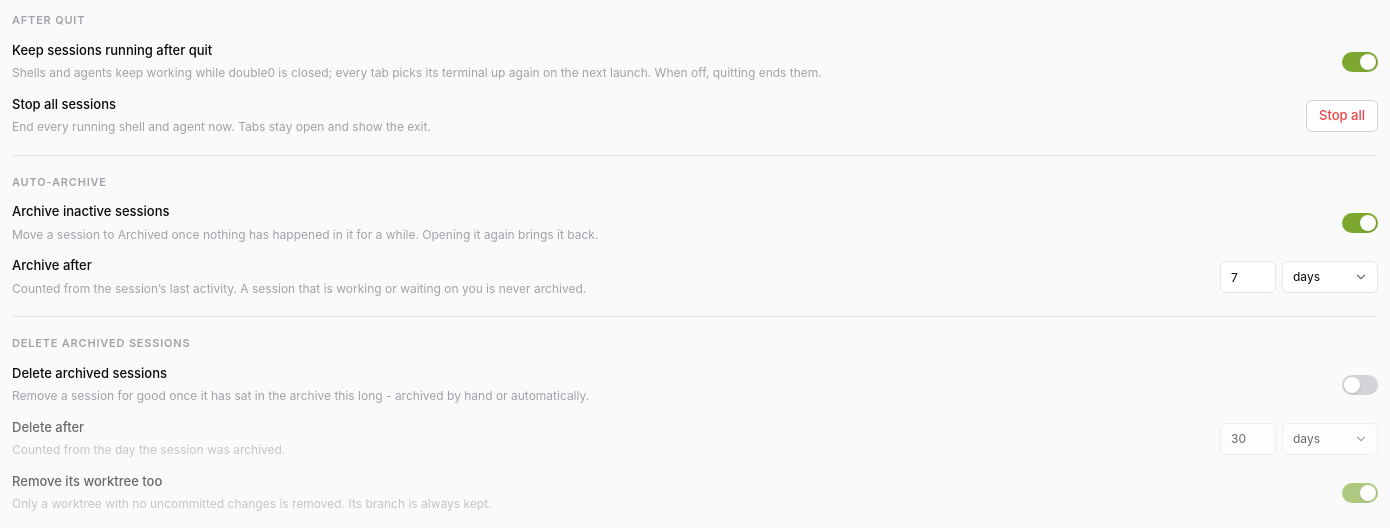
Scenario: SessionsSettingsSection › after quit (a private plan) › keeps sessions running by default and turns the choice off on a click
This screenshot has width=1390, height=528.
Click the switch named "Keep sessions running after quit" at (1360, 62), box 1342,52 -> 1378,72
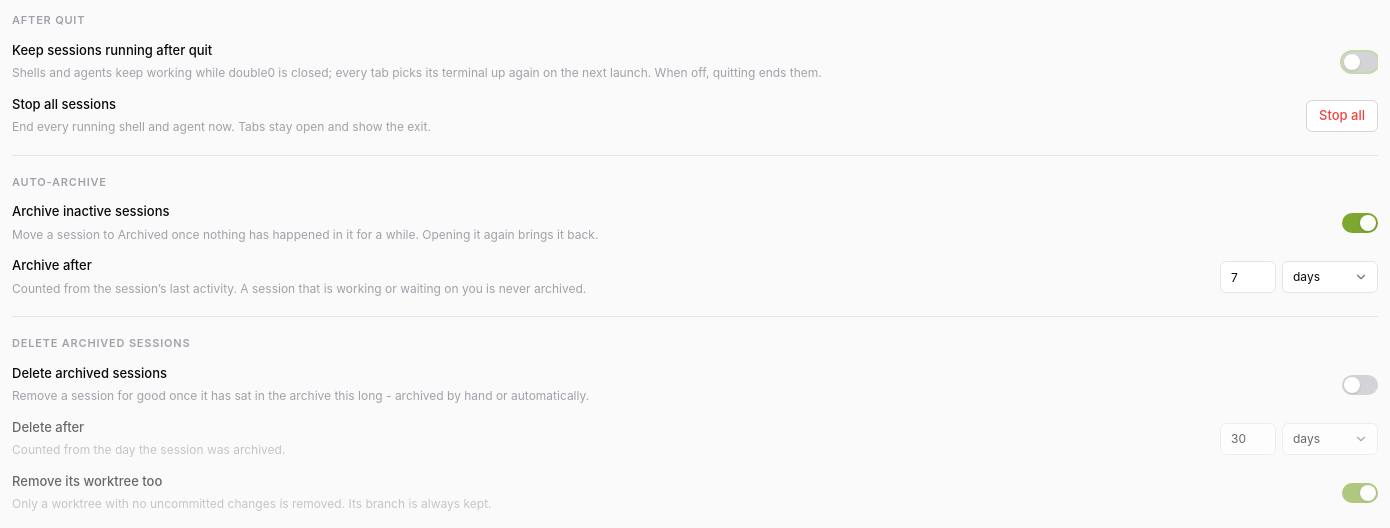
Expected: the switch named "Keep sessions running after quit" is not checked, 1342,52 -> 1378,72
